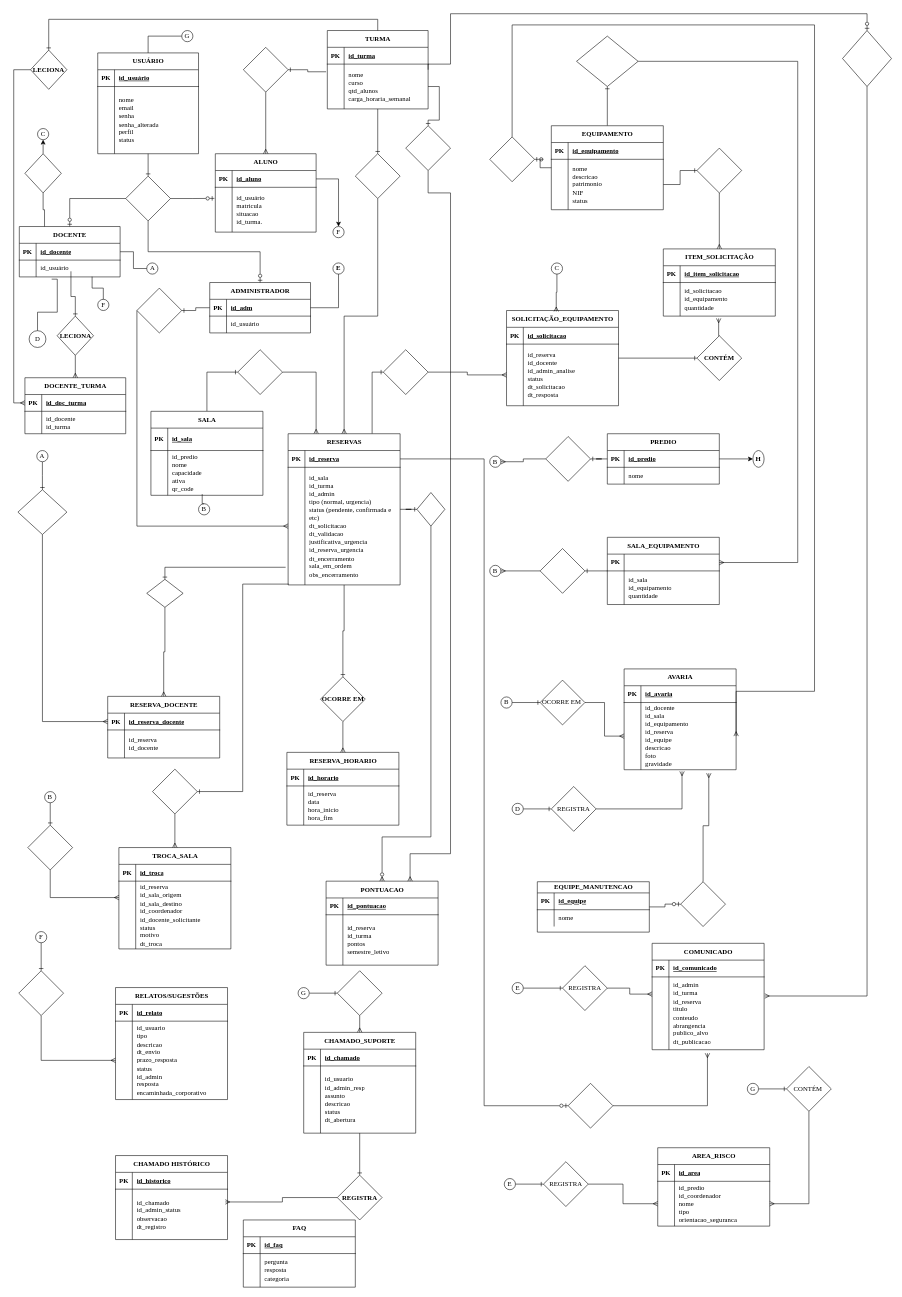
Image size: 902x1297. Some labels were removed from this diagram. The centre of each missing label's shape, as x and y in pixels:
"ABRE" goes at pixel 359 993.
"ABRIGA" goes at pixel 568 458.
"ACUMULA" goes at pixel 428 148.
"AFETA" goes at pixel 512 159.
"ATENDE" goes at pixel 702 904.
"DESTINADO A" goes at pixel 867 58.
"EMITE" goes at pixel 590 1105.
"ENVIA" goes at pixel 41 993.
"gera" goes at pixel 430 509.
"INSTALADO EM" goes at pixel 607 61.
"MATRICULA" goes at pixel 265 69.
"ORIGEM / DESTINO" goes at pixel 50 847.
"POSSUI" goes at pixel 562 570.
"RESPONSÁVEL" goes at pixel 42 512.
"SOFRE" goes at pixel 174 791.
"SOLICITA" goes at pixel 42 173.
"TEM" goes at pixel 164 593.
"USA" goes at pixel 377 176.
"VALIDA" goes at pixel 159 310.
"VINCULA" goes at pixel 405 372.
"É PEDIDO" goes at pixel 719 170.
"É RESERVADA" goes at pixel 260 372.
"É UM" goes at pixel 148 198.
